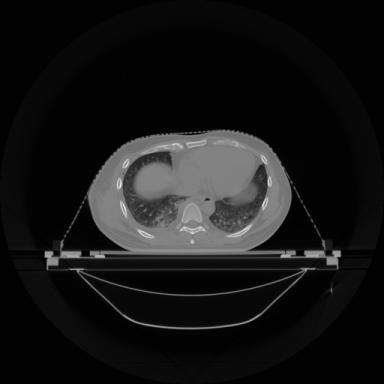body: (88, 130, 291, 251)
cord: (176, 203, 207, 244)
paru kanan: (123, 152, 187, 227)
paru kiri: (210, 164, 267, 232)
